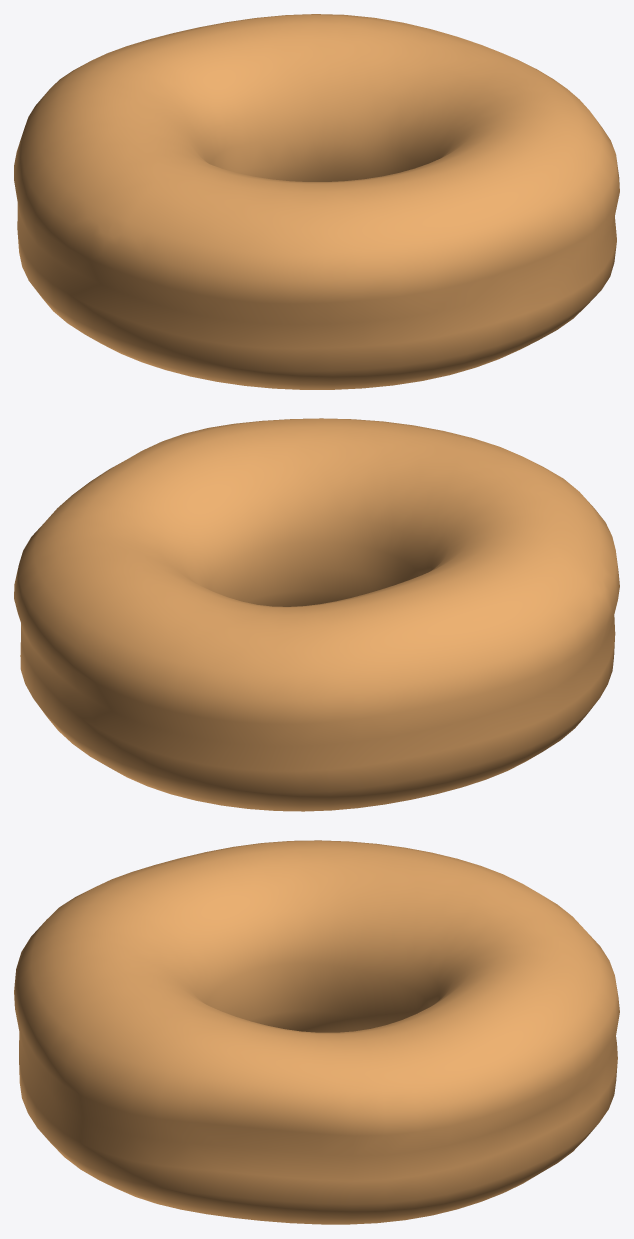
File: donut-solo.gltf
The picture shows the model from 3 angles, top to bottom: view 1: azimuth 30°, elevation 25°; view 2: azimuth 150°, elevation 25°; view 3: azimuth 270°, elevation 25°; orthographic projection.
Parts seen in each view (by area): view 1: Donut.001; view 2: Donut.001; view 3: Donut.001.
Boxes of the visible parts, x1,y1,x2,y2 form: Donut.001: (14,14,619,389); Donut.001: (14,418,619,811); Donut.001: (14,840,619,1224).
Size of the model in its own units: 0.0284 by 0.0103 by 0.0288.
